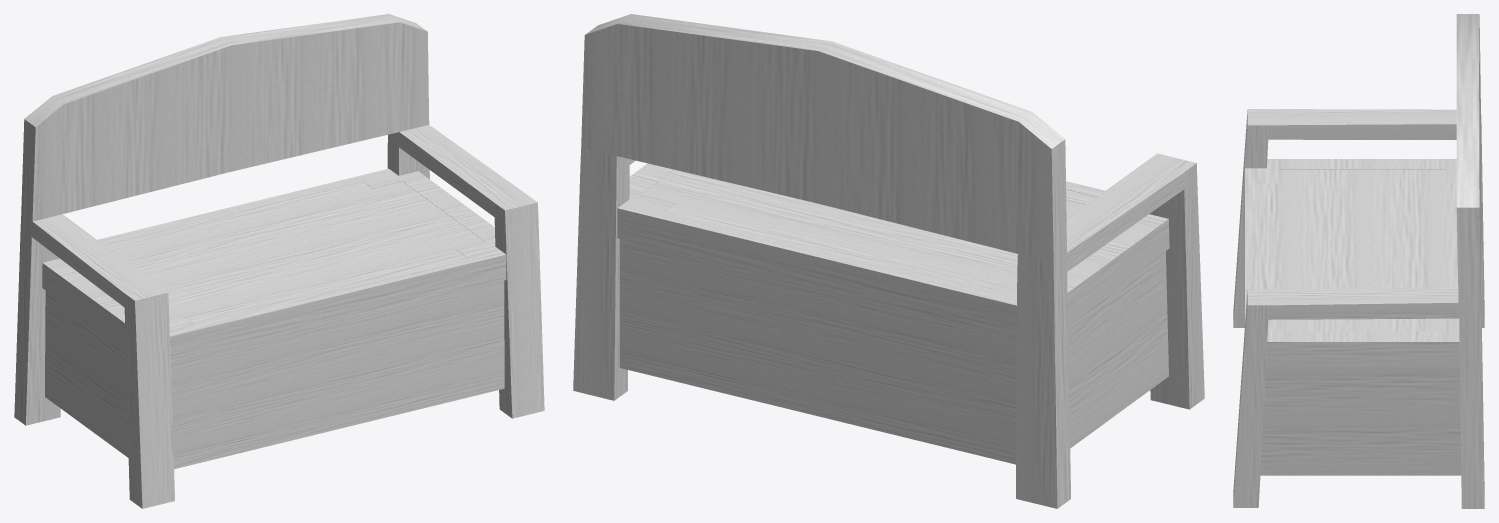
The model's file is Deacon_Bench_A.FBX.
3 views of the same model, side by side, from view 1: azimuth 30°, elevation 25°; view 2: azimuth 150°, elevation 25°; view 3: azimuth 270°, elevation 25° (orthographic). The views are drawn at different scales.
Visible parts, largest first — view 1: Deacon_Bench, Lid; view 2: Deacon_Bench, Lid; view 3: Deacon_Bench, Lid.
Boxes of the visible parts, x1,y1,x2,y2 form: Deacon_Bench: (14, 14, 544, 508); Lid: (104, 182, 485, 323); Deacon_Bench: (573, 14, 1204, 508); Lid: (641, 169, 1096, 290); Deacon_Bench: (1233, 14, 1484, 508); Lid: (1259, 169, 1458, 331).
Bounding box in the file's own units: 248 × 194 × 133.
